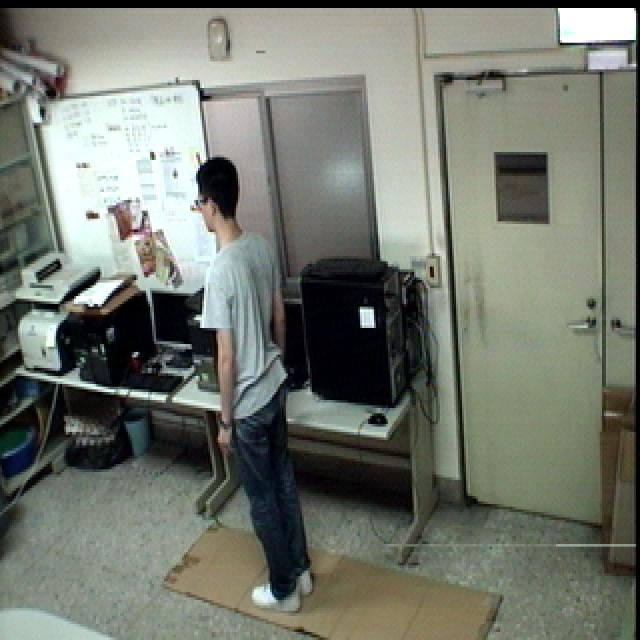stand: (185, 153, 318, 618)
